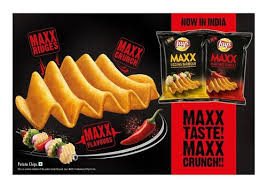lays-small: (157, 29, 208, 102), (210, 29, 244, 105)
